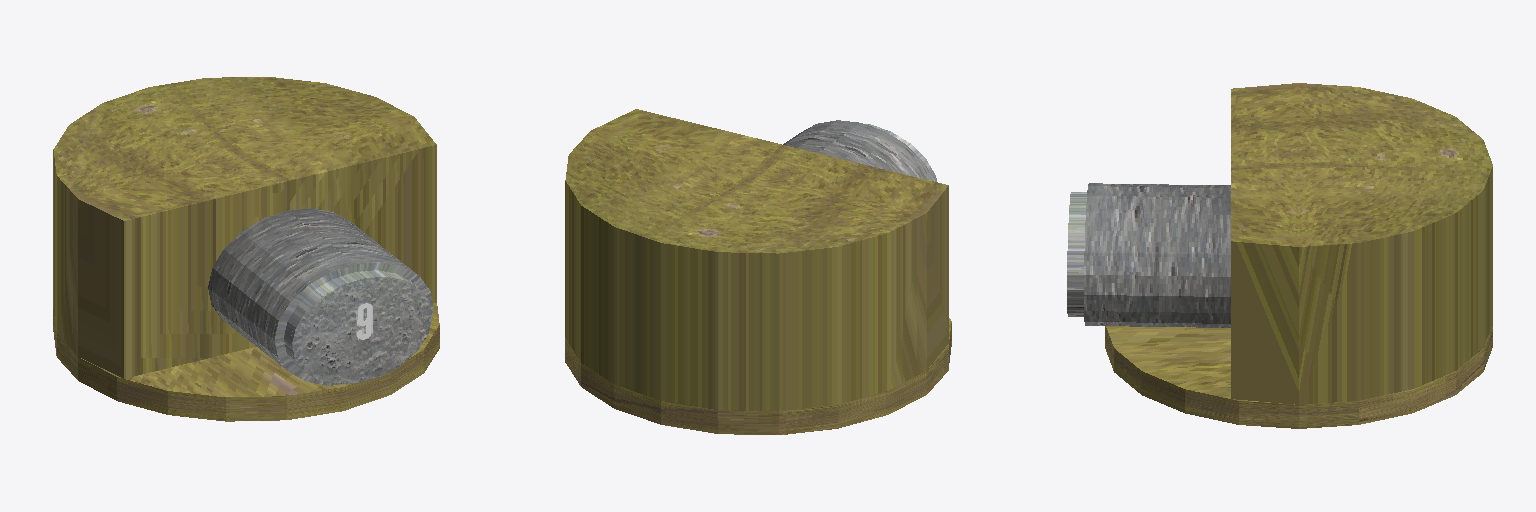
3 renders of one model, left to right at view 1: azimuth 30°, elevation 25°; view 2: azimuth 150°, elevation 25°; view 3: azimuth 270°, elevation 25°, orthographic.
Parts seen in each view (by area): view 1: polySurface2 polySurface1, polySurface1 polySurface3, polySurface1 polySurface4; view 2: polySurface2 polySurface1, polySurface1 polySurface4, polySurface1 polySurface3; view 3: polySurface2 polySurface1, polySurface1 polySurface3, polySurface1 polySurface4.
Boxes of the visible parts, x1,y1,x2,y2 form: polySurface2 polySurface1: [53, 77, 439, 421]; polySurface1 polySurface3: [273, 208, 433, 385]; polySurface1 polySurface4: [208, 211, 360, 369]; polySurface2 polySurface1: [565, 109, 951, 434]; polySurface1 polySurface4: [818, 125, 933, 180]; polySurface1 polySurface3: [783, 120, 936, 181]; polySurface2 polySurface1: [1105, 83, 1492, 428]; polySurface1 polySurface3: [1067, 183, 1230, 327]; polySurface1 polySurface4: [1074, 183, 1230, 202].
Bounding box in the file's own units: 1.51 × 0.7822 × 1.66.
Materials: 2 (2 with a texture image).